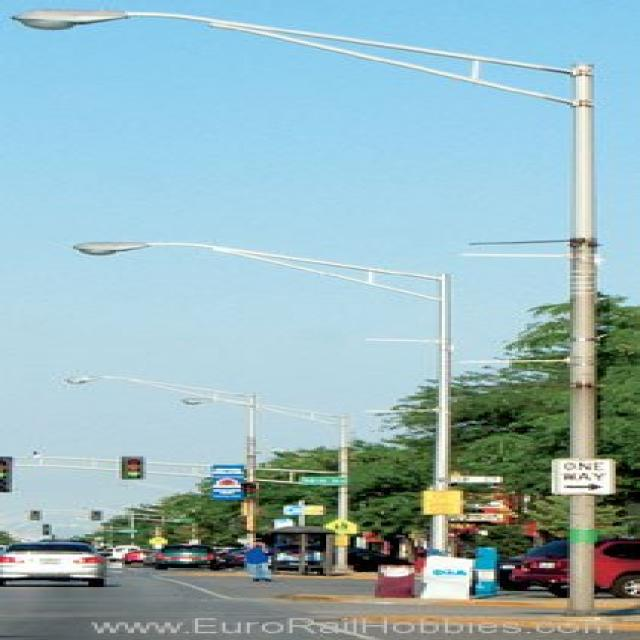Electric pole: (123, 11, 594, 462), (73, 243, 451, 491), (570, 496, 597, 615), (15, 10, 98, 28), (430, 518, 448, 555)
